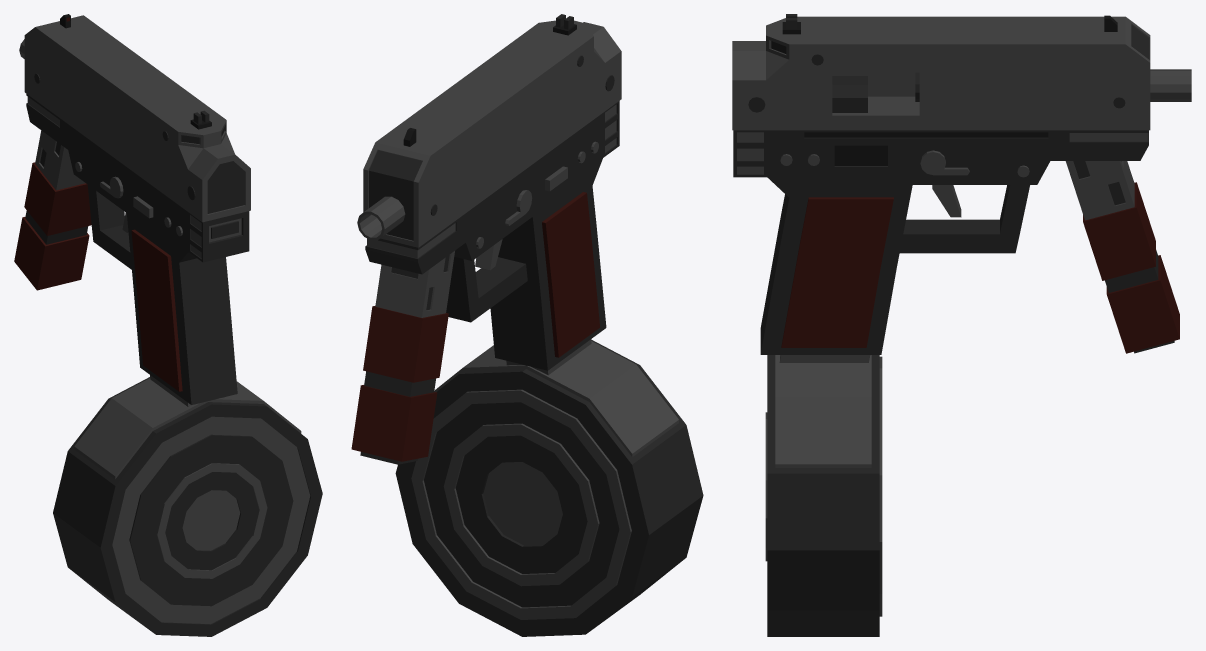
File: auto-pistol-named-nodes.glb
3 renders of one model, left to right at view 1: azimuth 30°, elevation 25°; view 2: azimuth 150°, elevation 25°; view 3: azimuth 270°, elevation 25°, orthographic. The views are drawn at different scales.
Parts seen in each view (by area): view 1: RARAN Prototype 1130, RARAN Prototype 1130 mag; view 2: RARAN Prototype 1130, RARAN Prototype 1130 mag; view 3: RARAN Prototype 1130, RARAN Prototype 1130 mag.
Part boxes in pixels (x1,y1,x2,y2): RARAN Prototype 1130: (14,14,250,404); RARAN Prototype 1130 mag: (53,375,322,636); RARAN Prototype 1130: (351,14,621,464); RARAN Prototype 1130 mag: (395,339,703,636); RARAN Prototype 1130: (732,14,1191,354); RARAN Prototype 1130 mag: (765,355,882,636).
Size of the model in its own units: 0.4002 by 0.8876 by 0.6095.
Materials: 1 (1 with a texture image).
